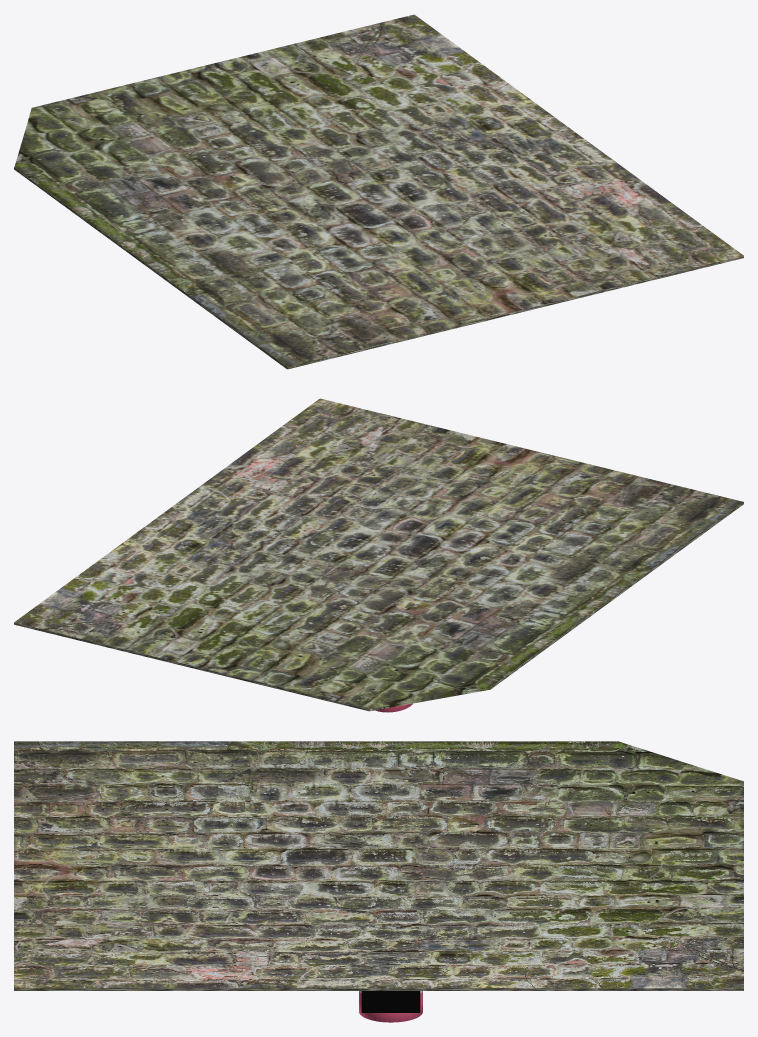
The model's file is ShampooBottle.fbx.
3 views of the same model, one above another, from view 1: azimuth 30°, elevation 25°; view 2: azimuth 150°, elevation 25°; view 3: azimuth 270°, elevation 25° (orthographic). The views are drawn at different scales.
Parts seen in each view (by area): view 1: Wall.006; view 2: Wall.006; view 3: Wall.006, PETS Logo Transparent, Cylinder.
Boxes of the visible parts, x1,y1,x2,y2 form: Wall.006: (14, 14, 743, 369); Wall.006: (14, 398, 743, 711); Wall.006: (14, 741, 743, 990); PETS Logo Transparent: (361, 991, 420, 1012); Cylinder: (359, 991, 422, 1022).
Bounding box in the file's own units: 40 × 11.85 × 50.
